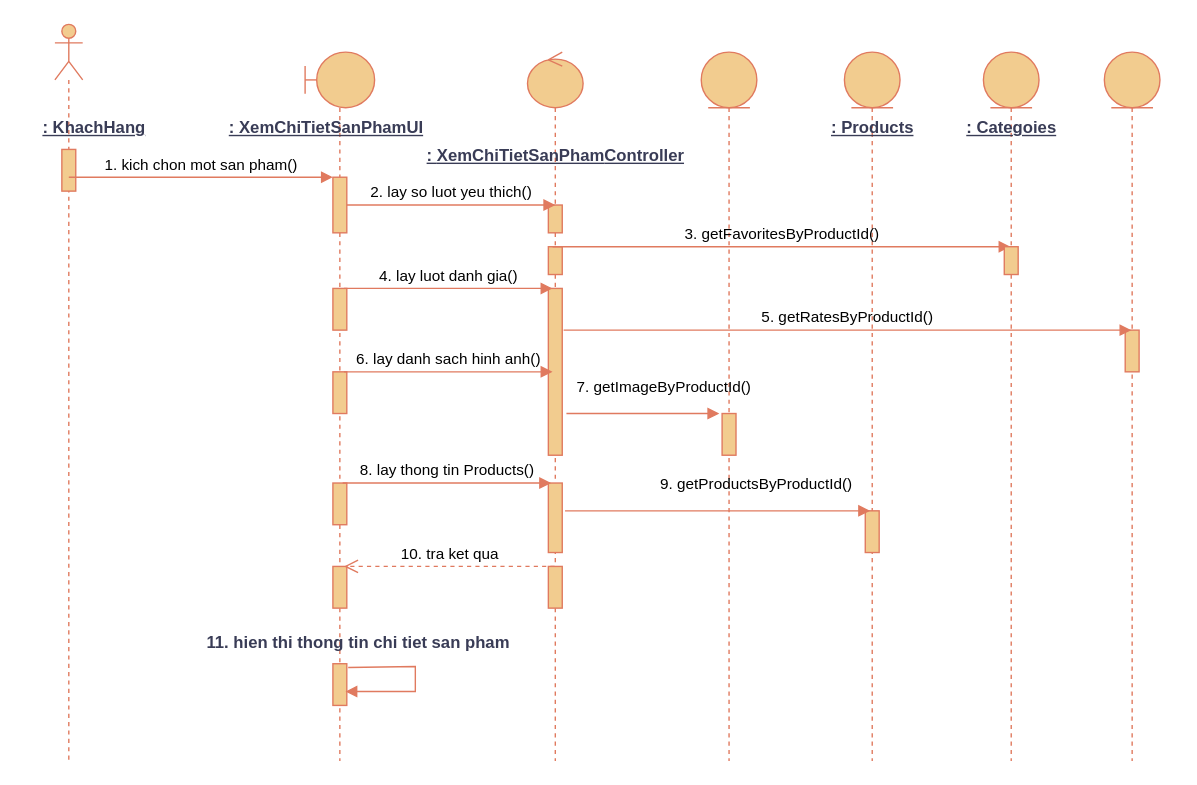
The diagram is 1197 pixels wide and 785 high, and some of its shapes have lost their labels. Here are the shapes that lost their labels. From the top down, the centre of each, then its label:
At point (728, 406): ": Image".
At point (1131, 406): ": Rates".
